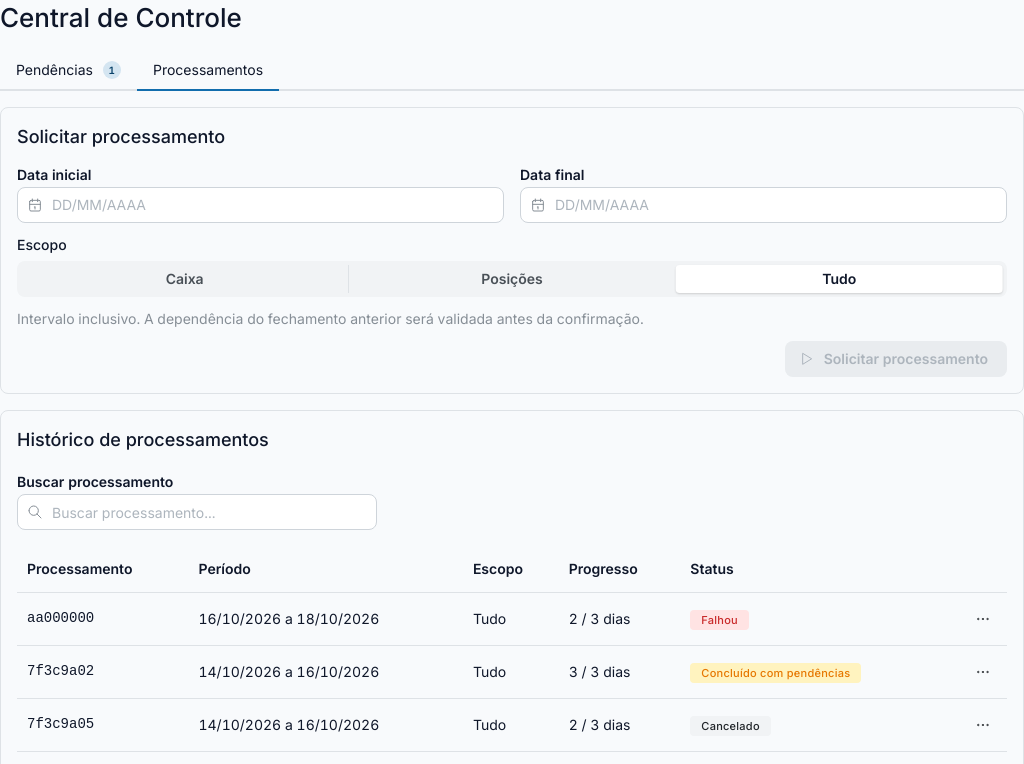
Test: Processamentos: details (§11.1, §10.4) › OQ-36 a Falhou Tudo run where the chains failed on different dates says what each published
Click the button named "Ações do processamento" at {"x": 983, "y": 619}, box left=969, top=605, right=997, bottom=633
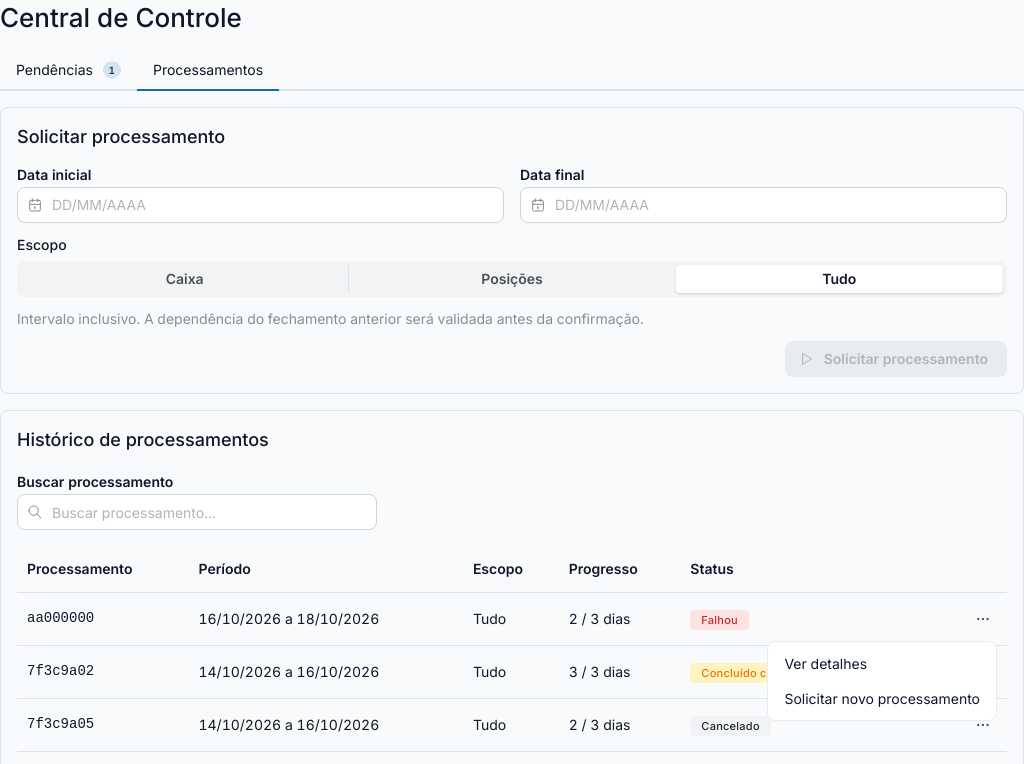
Click the menu item "Ver detalhes" at {"x": 882, "y": 663}, box left=772, top=646, right=992, bottom=681
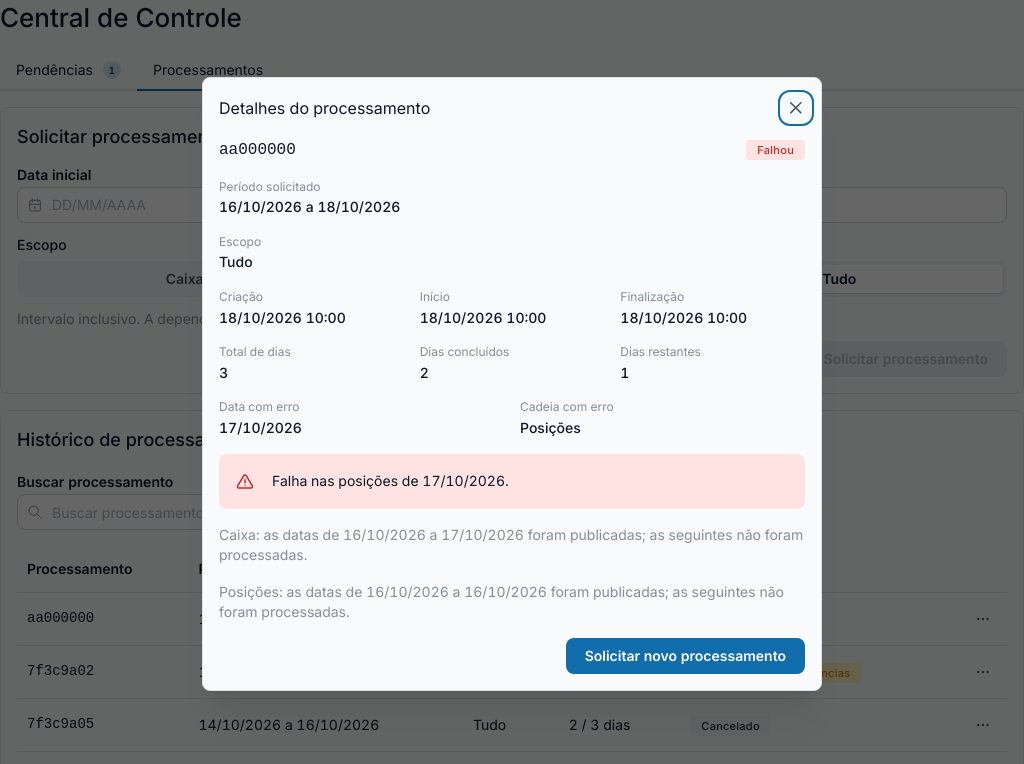
Check: the text "Caixa: as datas de 16/10/2026 a 17/10/2026 foram publicadas; as seguintes não foram processadas." is shown, box left=219, top=526, right=803, bottom=563
Check: the text "Posições: as datas de 16/10/2026 a 16/10/2026 foram publicadas; as seguintes não foram processadas." is shown, box left=219, top=583, right=784, bottom=620
